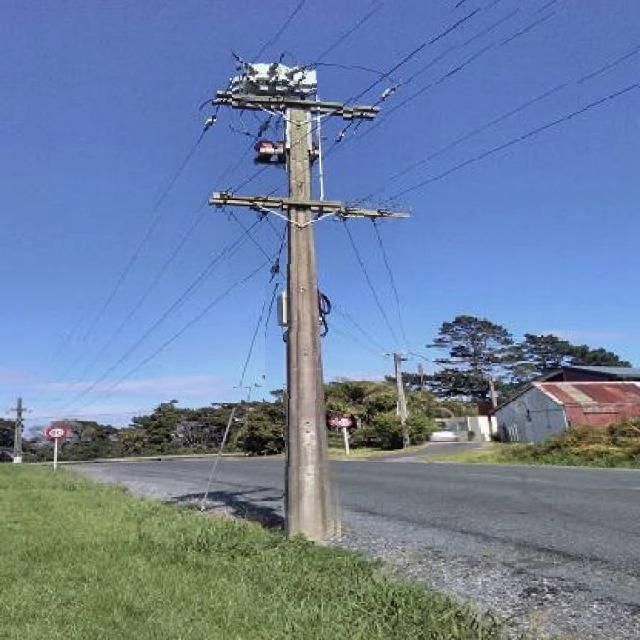crossarm: (217, 93, 378, 120), (218, 196, 410, 217)
pole: (284, 96, 339, 541)
transformer: (241, 64, 312, 98), (277, 292, 291, 326)
wire: (52, 1, 306, 365), (232, 1, 480, 197), (278, 0, 504, 198), (357, 47, 638, 203), (317, 10, 557, 162), (84, 213, 262, 395), (385, 84, 639, 204), (99, 251, 288, 403), (340, 219, 399, 349), (371, 219, 410, 351), (308, 4, 381, 71), (229, 211, 290, 283), (265, 216, 289, 247)
